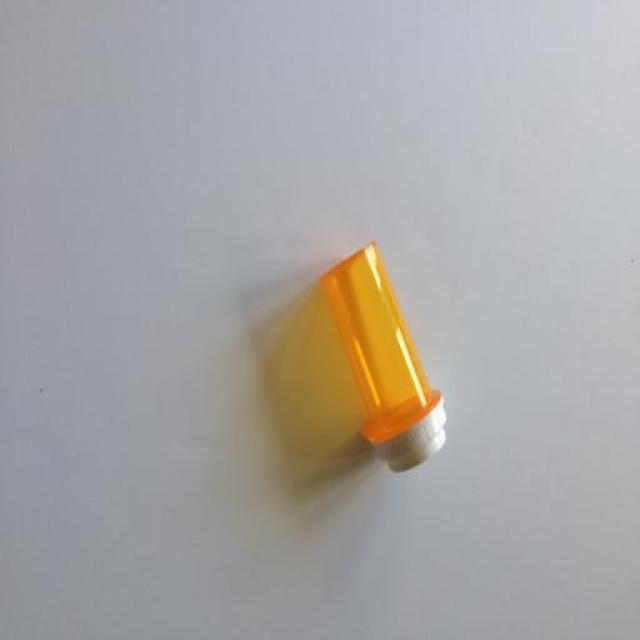Plastic: (320, 240, 446, 473)
